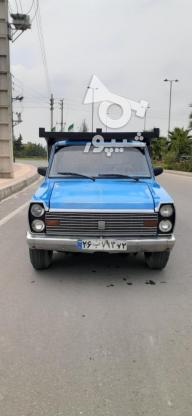car: (76, 238, 129, 254)
